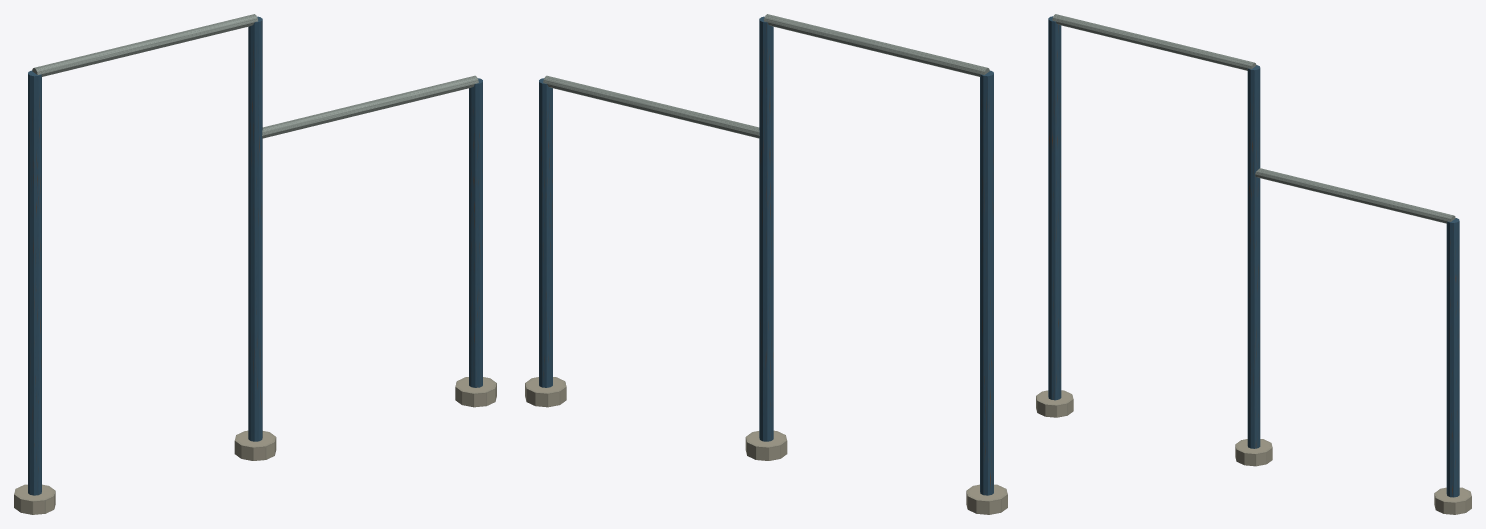
The model's file is CIS_PullUpBars.obj.
3 renders of one model, left to right at view 1: azimuth 30°, elevation 25°; view 2: azimuth 150°, elevation 25°; view 3: azimuth 330°, elevation 25°, orthographic. The views are drawn at different scales.
Parts seen in each view (by area): view 1: CIS_PullUpBars; view 2: CIS_PullUpBars; view 3: CIS_PullUpBars.
Part boxes in pixels (left/top/right/bottom): CIS_PullUpBars: left=14, top=14, right=496, bottom=514; CIS_PullUpBars: left=525, top=14, right=1007, bottom=514; CIS_PullUpBars: left=1036, top=14, right=1471, bottom=514.
Bounding box in the file's own units: 2.59 × 2.27 × 0.2.
Materials: 3 (3 with a texture image).
